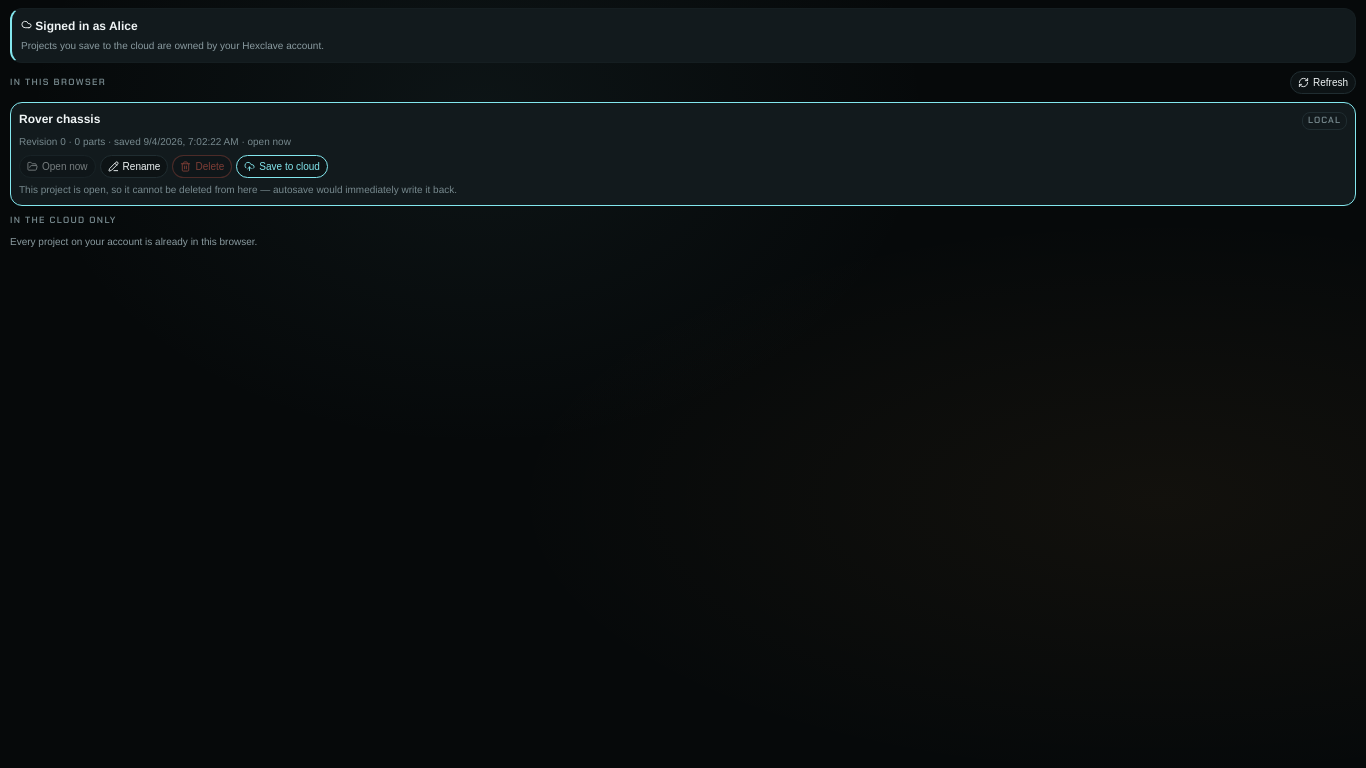
Test: Projects panel — mutations › claims a local project into the cloud and verifies the round trip
This screenshot has width=1366, height=768.
Expected: the text "Rover chassis" is shown, [19,110,100,128]
What coordinates should you click on to do the following:
click the button "Save to cloud"
I would click on:
 (282, 166)
Its box is [236,154,328,178].
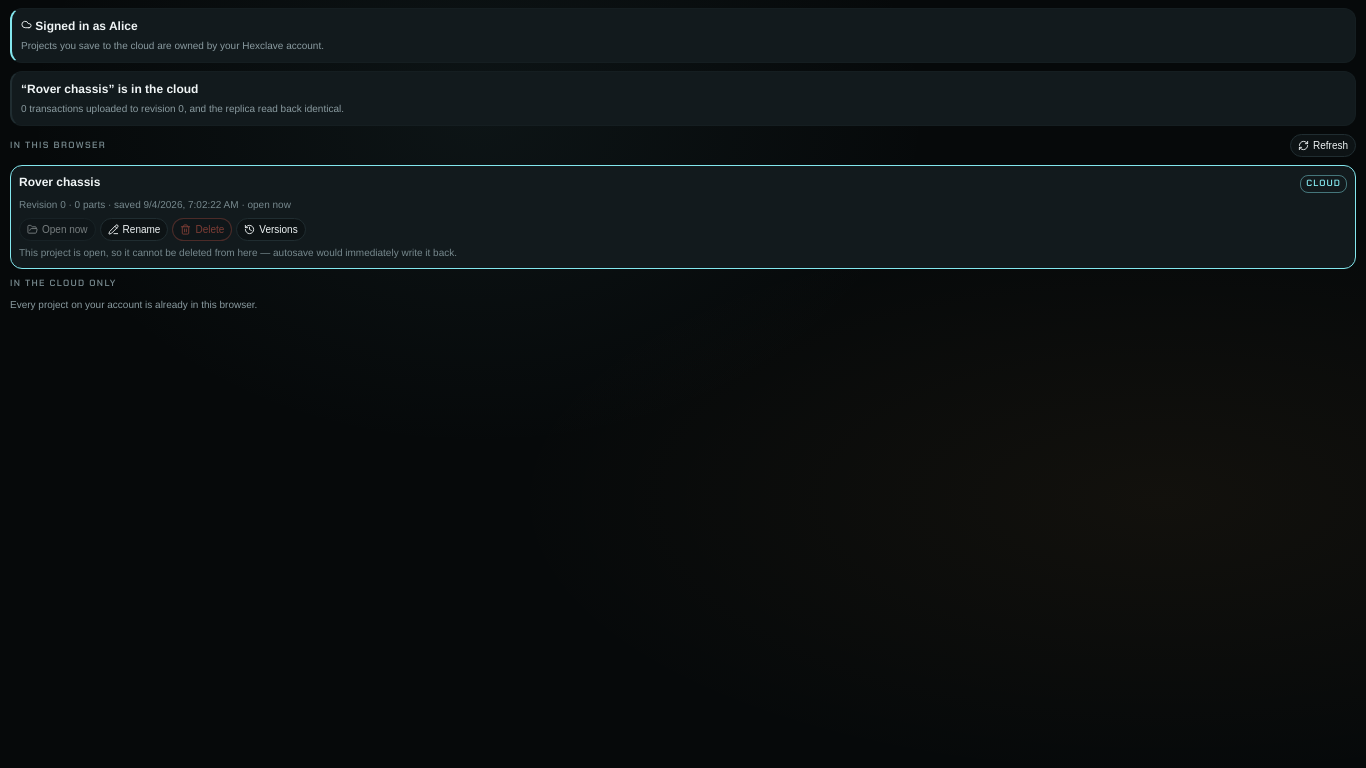
Expected: the text "“Rover chassis” is in the cloud" is shown, [21,82,198,96]
Expected: the text "read back identical" is shown, [21,104,344,115]
Expected: the button "Versions" is shown, [236,218,306,240]
